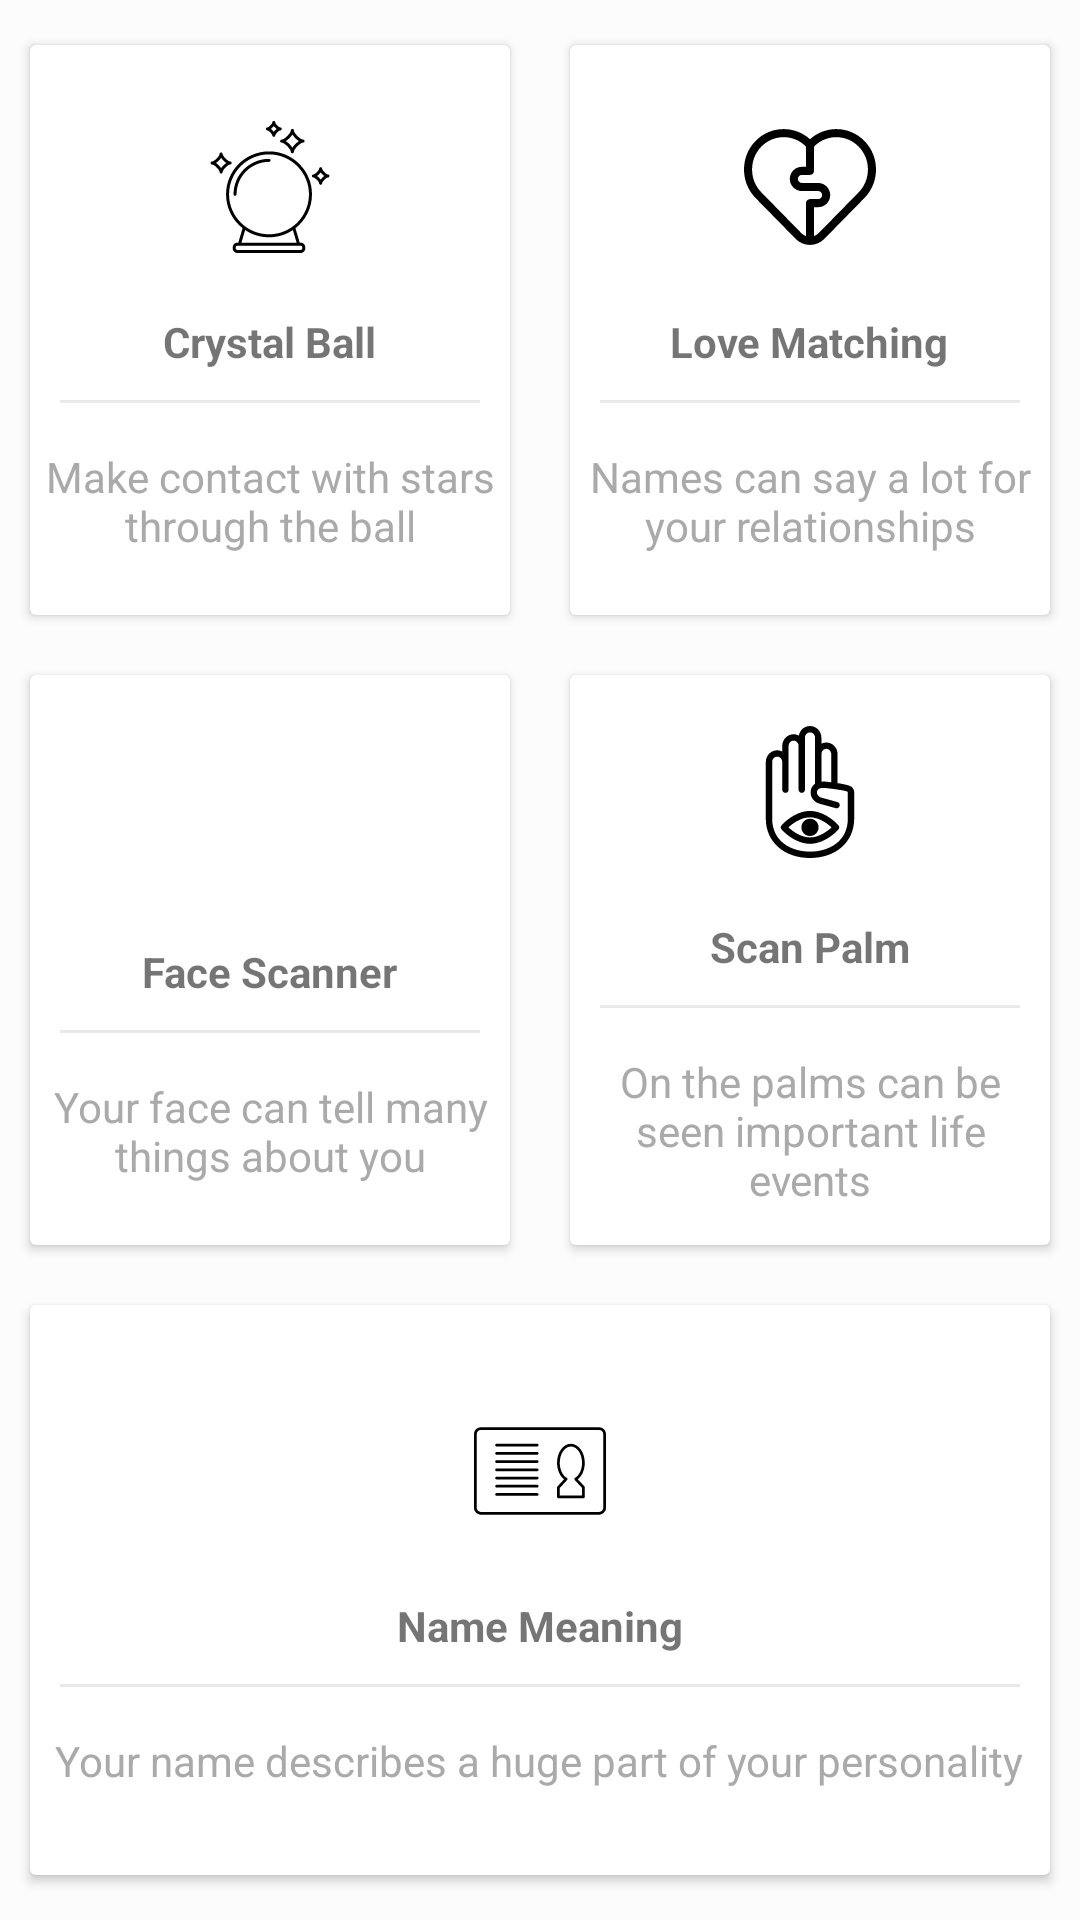

Locate icon controls on the screen. Image size 1080px×1920px, boxes as (left=x1, top=y1, right=x2, bottom=y2).
heart: (left=744, top=129, right=876, bottom=245)
